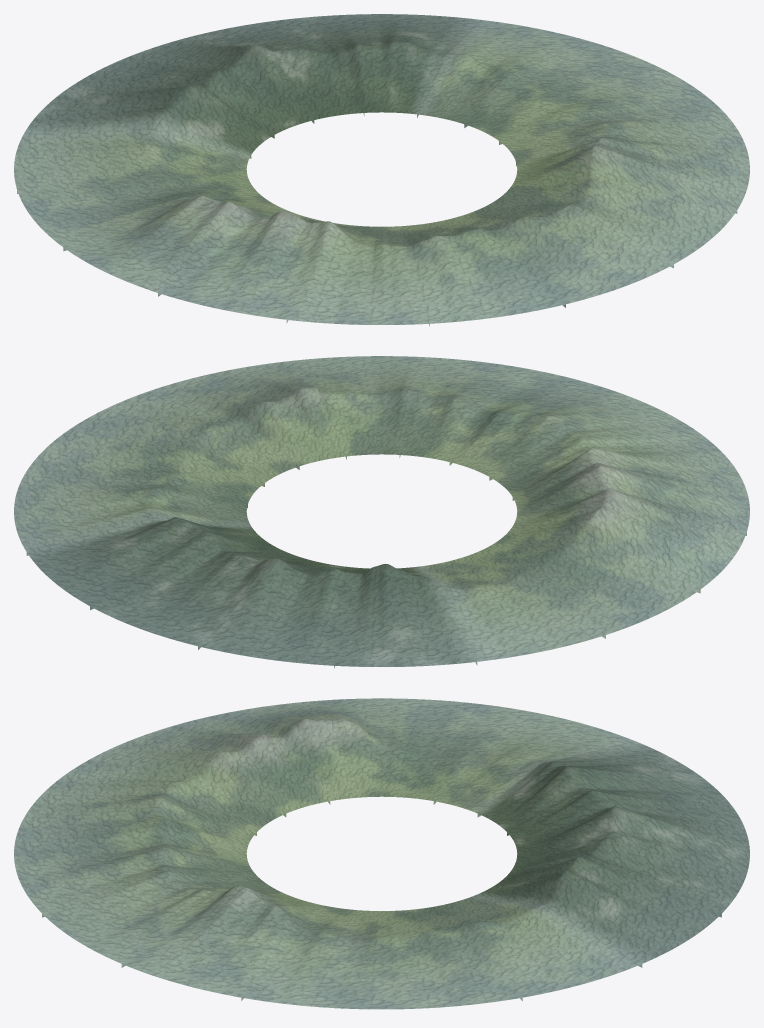
The model's file is distant_hills_foothills.gltf.
The picture shows the model from 3 angles, top to bottom: view 1: azimuth 30°, elevation 25°; view 2: azimuth 150°, elevation 25°; view 3: azimuth 270°, elevation 25°; orthographic projection.
Visible parts, largest first — view 1: distant_hills_foothills_s09_LOD0, distant_hills_foothills_s06_LOD0, distant_hills_foothills_s05_LOD0, distant_hills_foothills_s02_LOD0, distant_hills_foothills_s03_LOD0, distant_hills_foothills_s04_LOD0, distant_hills_foothills_s10_LOD0, distant_hills_foothills_s15_LOD0, distant_hills_foothills_s14_LOD0, distant_hills_foothills_s11_LOD0, distant_hills_foothills_s07_LOD0, distant_hills_foothills_s08_LOD0 (+4 smaller); view 2: distant_hills_foothills_s07_LOD0, distant_hills_foothills_s11_LOD0, distant_hills_foothills_s10_LOD0, distant_hills_foothills_s08_LOD0, distant_hills_foothills_s12_LOD0, distant_hills_foothills_s00_LOD0, distant_hills_foothills_s06_LOD0, distant_hills_foothills_s09_LOD0, distant_hills_foothills_s15_LOD0, distant_hills_foothills_s01_LOD0, distant_hills_foothills_s14_LOD0, distant_hills_foothills_s13_LOD0 (+4 smaller); view 3: distant_hills_foothills_s13_LOD0, distant_hills_foothills_s01_LOD0, distant_hills_foothills_s14_LOD0, distant_hills_foothills_s12_LOD0, distant_hills_foothills_s00_LOD0, distant_hills_foothills_s05_LOD0, distant_hills_foothills_s15_LOD0, distant_hills_foothills_s04_LOD0, distant_hills_foothills_s03_LOD0, distant_hills_foothills_s02_LOD0, distant_hills_foothills_s08_LOD0, distant_hills_foothills_s11_LOD0 (+4 smaller).
Part boxes in pixels (x1,y1,x2,y2): distant_hills_foothills_s09_LOD0: (14,121,250,189); distant_hills_foothills_s06_LOD0: (158,211,346,321); distant_hills_foothills_s05_LOD0: (286,221,429,326); distant_hills_foothills_s02_LOD0: (489,165,737,268); distant_hills_foothills_s03_LOD0: (450,204,673,307); distant_hills_foothills_s04_LOD0: (400,219,565,323); distant_hills_foothills_s10_LOD0: (27,75,274,158); distant_hills_foothills_s15_LOD0: (464,46,700,142); distant_hills_foothills_s14_LOD0: (417,19,605,125); distant_hills_foothills_s11_LOD0: (90,35,314,134); distant_hills_foothills_s07_LOD0: (63,195,298,292); distant_hills_foothills_s08_LOD0: (17,173,264,247); distant_hills_foothills_s07_LOD0: (499,488,746,592); distant_hills_foothills_s11_LOD0: (198,558,363,665); distant_hills_foothills_s10_LOD0: (334,564,476,668); distant_hills_foothills_s08_LOD0: (465,540,700,638); distant_hills_foothills_s12_LOD0: (90,535,313,646); distant_hills_foothills_s00_LOD0: (63,388,299,486); distant_hills_foothills_s06_LOD0: (513,451,749,535); distant_hills_foothills_s09_LOD0: (417,557,605,664); distant_hills_foothills_s15_LOD0: (17,434,264,508); distant_hills_foothills_s01_LOD0: (158,361,346,465); distant_hills_foothills_s14_LOD0: (14,486,250,555); distant_hills_foothills_s13_LOD0: (26,517,273,609); distant_hills_foothills_s13_LOD0: (478,856,721,967); distant_hills_foothills_s01_LOD0: (121,886,329,997); distant_hills_foothills_s14_LOD0: (434,894,641,1000); distant_hills_foothills_s12_LOD0: (507,817,749,917); distant_hills_foothills_s00_LOD0: (241,906,381,1009); distant_hills_foothills_s05_LOD0: (42,744,286,833); distant_hills_foothills_s15_LOD0: (382,906,522,1009); distant_hills_foothills_s04_LOD0: (14,794,256,853); distant_hills_foothills_s03_LOD0: (14,835,256,917); distant_hills_foothills_s02_LOD0: (42,869,285,967); distant_hills_foothills_s08_LOD0: (382,698,522,802); distant_hills_foothills_s11_LOD0: (507,789,749,853).
Size of what is drawn, in the model's own units: 980 by 67.62 by 980.
2 materials, 2 textured.
